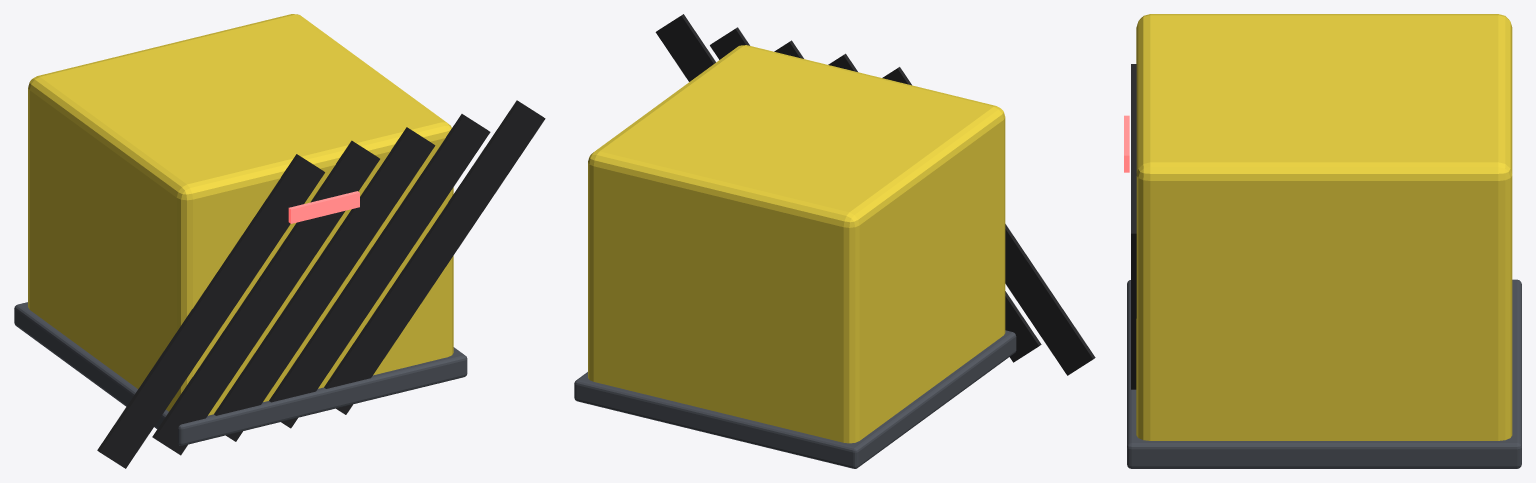
Rendered from cargo_crate_hazard.glb.
3 renders of one model, left to right at view 1: azimuth 30°, elevation 25°; view 2: azimuth 150°, elevation 25°; view 3: azimuth 270°, elevation 25°, orthographic. The views are drawn at different scales.
Visible parts, largest first — view 1: GD_cargo_crate_hazard__m0, GD_cargo_crate_hazard__m1, GD_cargo_crate_hazard__m2, GD_cargo_crate_hazard__m3; view 2: GD_cargo_crate_hazard__m0, GD_cargo_crate_hazard__m2, GD_cargo_crate_hazard__m1; view 3: GD_cargo_crate_hazard__m0, GD_cargo_crate_hazard__m2, GD_cargo_crate_hazard__m1.
Boxes of the visible parts, x1=… form: GD_cargo_crate_hazard__m0: x1=28, y1=14, x2=453, y2=415; GD_cargo_crate_hazard__m1: x1=97, y1=100, x2=545, y2=468; GD_cargo_crate_hazard__m2: x1=14, y1=302, x2=467, y2=445; GD_cargo_crate_hazard__m3: x1=288, y1=191, x2=359, y2=223; GD_cargo_crate_hazard__m0: x1=588, y1=45, x2=1005, y2=443; GD_cargo_crate_hazard__m2: x1=574, y1=330, x2=1016, y2=468; GD_cargo_crate_hazard__m1: x1=655, y1=14, x2=1095, y2=375; GD_cargo_crate_hazard__m0: x1=1136, y1=14, x2=1512, y2=440; GD_cargo_crate_hazard__m2: x1=1127, y1=279, x2=1521, y2=468; GD_cargo_crate_hazard__m1: x1=1131, y1=64, x2=1136, y2=389.
Bounding box in the file's own units: 1.3 × 0.7528 × 0.846.
